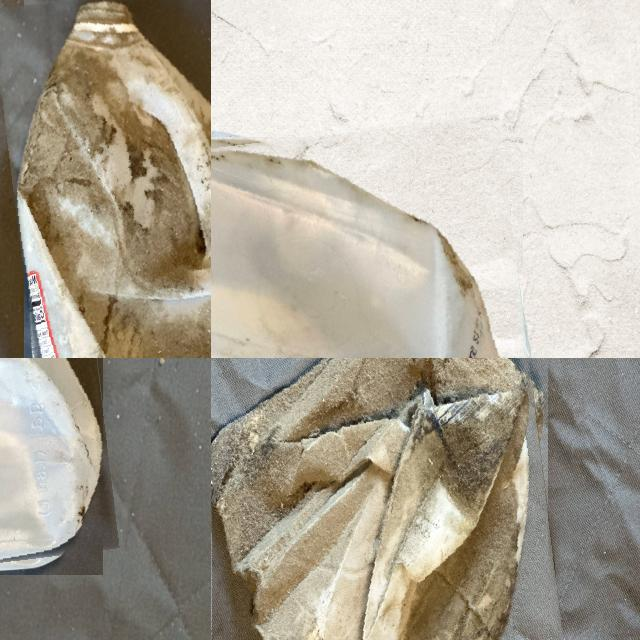milk-jug: (211, 358, 562, 640), (211, 124, 535, 358), (7, 0, 211, 358), (0, 358, 112, 587)
